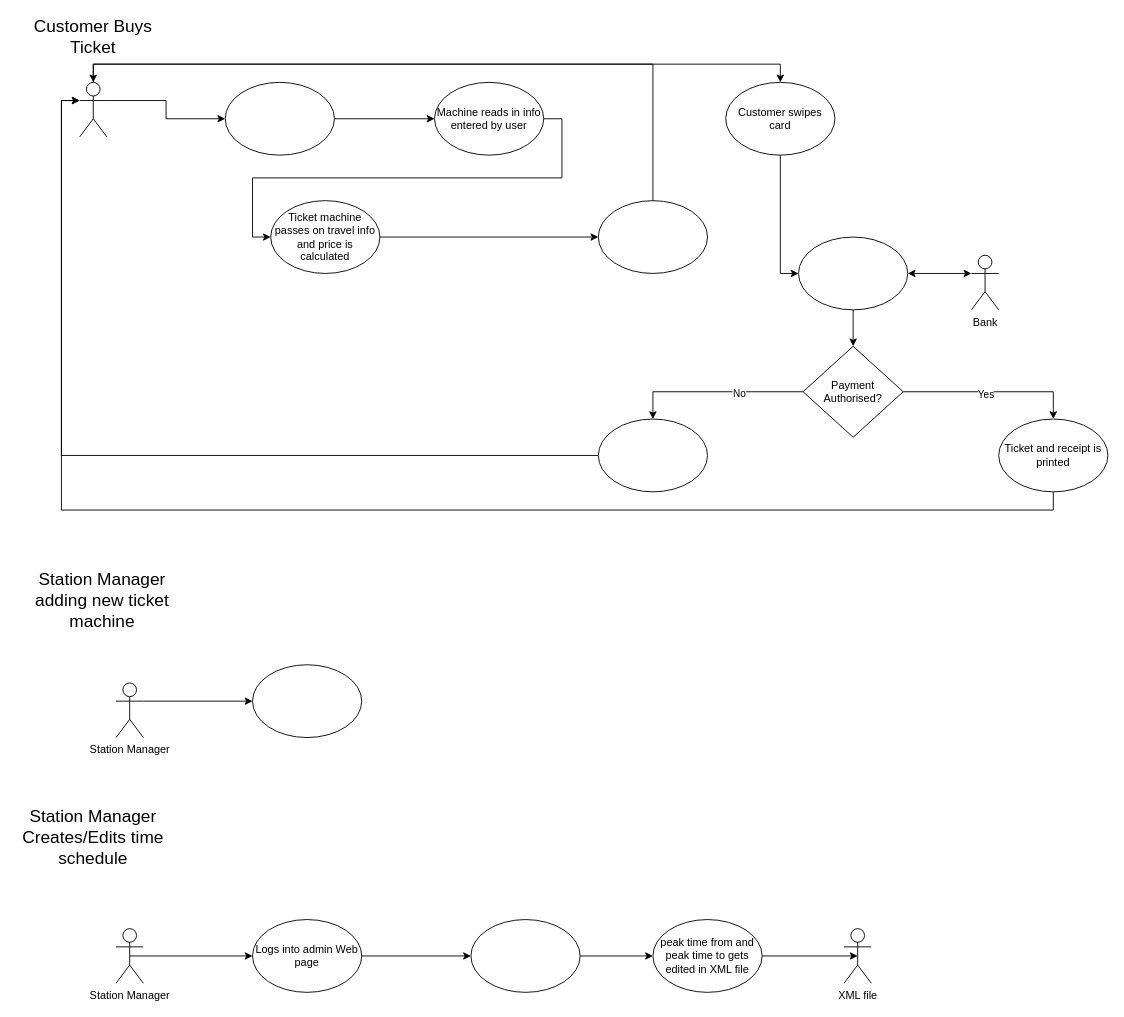
Image size: 1124x1017. Some labels were removed from this diagram. Each missing label, with the box of its shape:
Customer: (79, 81, 107, 137)
Customer enters journey details into ticket machine: (224, 81, 334, 155)
edits peak time from and peak time to: (470, 919, 580, 992)
Error is displayed to customer: (597, 418, 708, 492)
Price is printed to customer and asks for card details: (597, 200, 708, 273)
Ticket machine communicates to bank to authorise payment: (798, 236, 908, 310)
